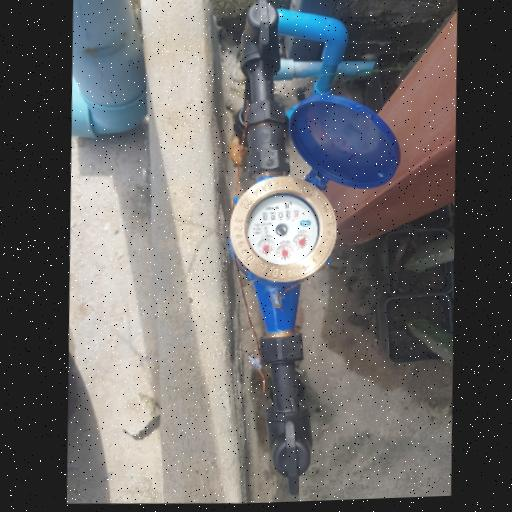0: (262, 211, 268, 221), (269, 211, 275, 220), (277, 211, 283, 220)
6: (285, 210, 291, 219)
9: (293, 209, 299, 219)
border_water_meter_number: (260, 206, 300, 223)
